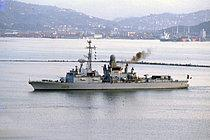MIL_Ship: (26, 40, 193, 92)
